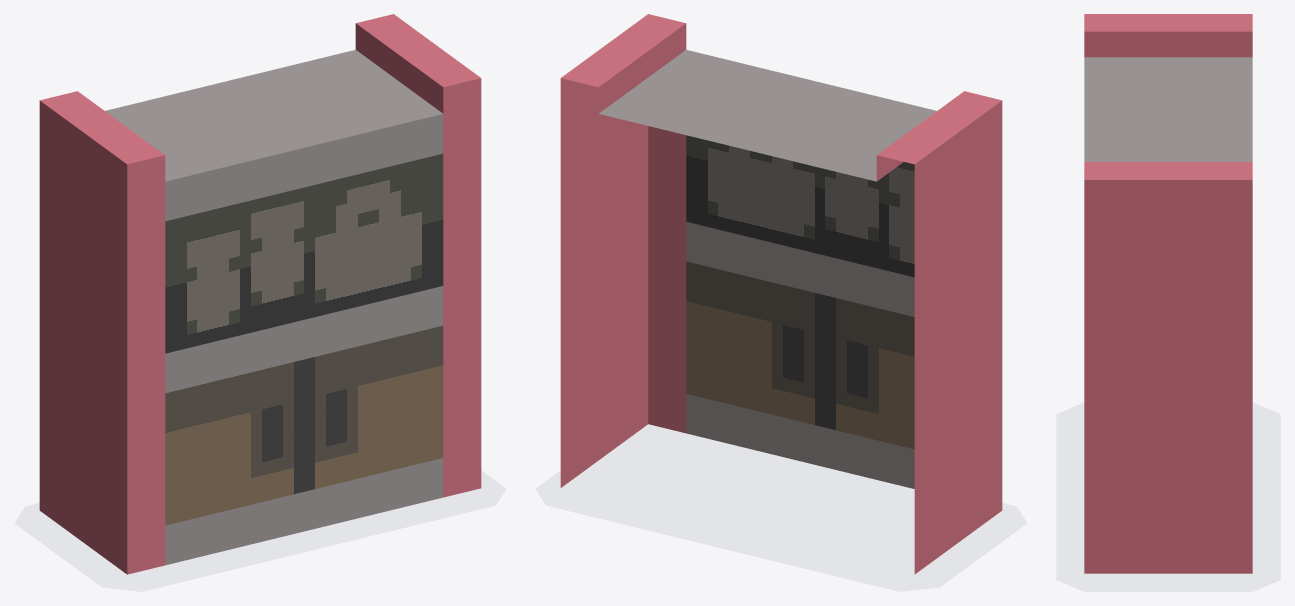
The model's file is Shelf 6.obj.
3 renders of one model, left to right at view 1: azimuth 30°, elevation 25°; view 2: azimuth 150°, elevation 25°; view 3: azimuth 270°, elevation 25°, orthographic. The views are drawn at different scales.
Parts seen in each view (by area): view 1: polygon1; view 2: polygon1; view 3: polygon1.
Boxes of the visible parts, x1,y1,x2,y2 form: polygon1: (39,14,481,574); polygon1: (560,14,1002,574); polygon1: (1084,14,1252,573).
Size of the model in its own units: 32 by 31.5 by 16.
